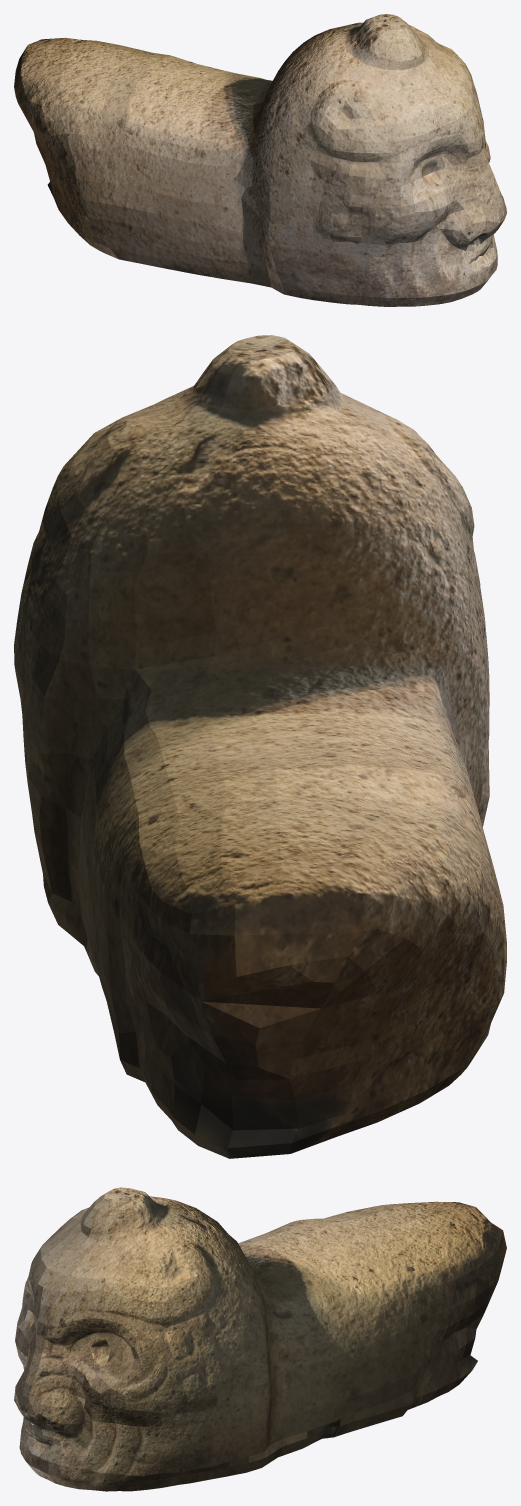
The model's file is 5_cabeza_clava_rn_192986.glb.
The picture shows the model from 3 angles, top to bottom: view 1: azimuth 30°, elevation 25°; view 2: azimuth 150°, elevation 25°; view 3: azimuth 270°, elevation 25°; orthographic projection. The views are drawn at different scales.
Visible parts, largest first — view 1: Box002; view 2: Box002; view 3: Box002.
Boxes of the visible parts, box(x1,y1,x2,y2) form: Box002: box(14, 14, 506, 306); Box002: box(14, 335, 506, 1158); Box002: box(14, 1187, 506, 1491).
Size of the model in its own units: 0.7258 by 0.5387 by 0.9374.
Materials: 1 (1 with a texture image).
